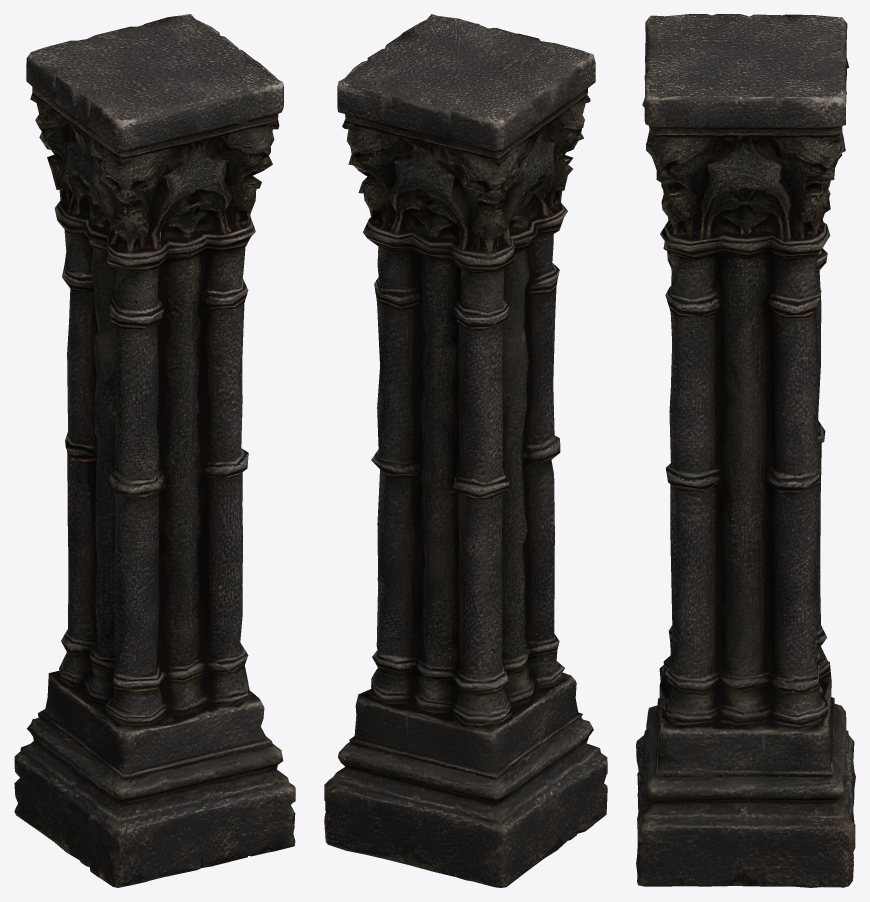
The model's file is raw_jamb.glb.
3 renders of one model, left to right at view 1: azimuth 30°, elevation 25°; view 2: azimuth 150°, elevation 25°; view 3: azimuth 270°, elevation 25°, orthographic. The views are drawn at different scales.
Visible parts, largest first — view 1: tripo_node_39809de9-0369-442b-ac8a-e09ebde93ccd; view 2: tripo_node_39809de9-0369-442b-ac8a-e09ebde93ccd; view 3: tripo_node_39809de9-0369-442b-ac8a-e09ebde93ccd.
Boxes of the visible parts, <box> form: tripo_node_39809de9-0369-442b-ac8a-e09ebde93ccd: <box>14,14,295,887</box>; tripo_node_39809de9-0369-442b-ac8a-e09ebde93ccd: <box>324,14,607,887</box>; tripo_node_39809de9-0369-442b-ac8a-e09ebde93ccd: <box>636,14,855,887</box>.
Size of the model in its own units: 0.2589 by 1 by 0.2536.
Materials: 1 (1 with a texture image).
